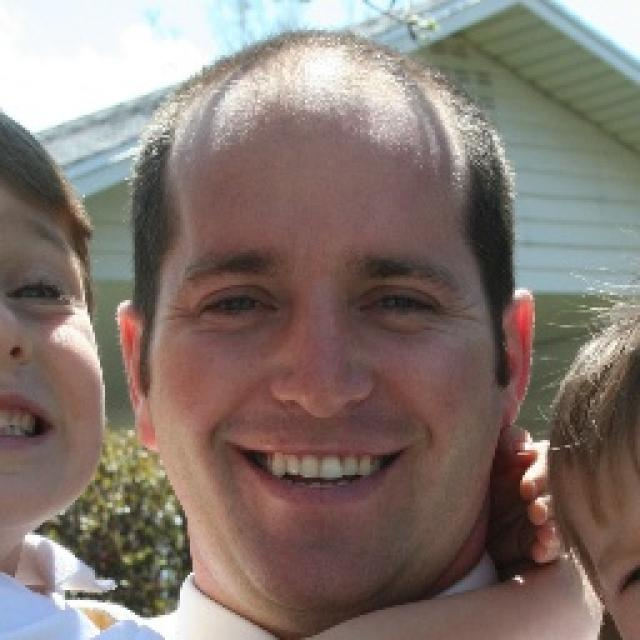earlobe: (131, 393, 160, 453), (498, 380, 522, 431)
eye: (195, 290, 278, 321), (362, 292, 438, 321), (7, 278, 72, 308), (610, 568, 640, 598)
nose: (274, 394, 370, 438), (0, 353, 32, 383)
wholeear: (116, 300, 160, 452), (498, 288, 536, 431)
